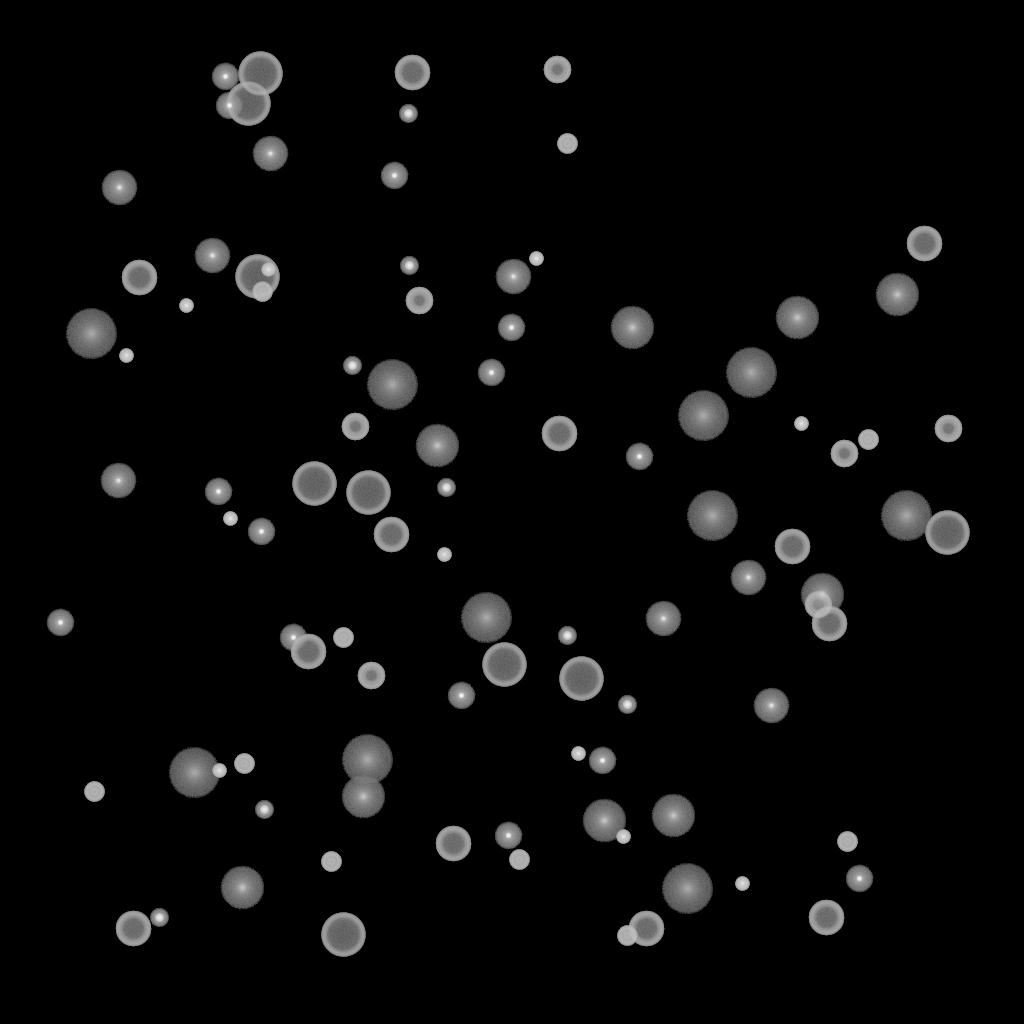depth:-10: (204, 478, 232, 506), (494, 822, 522, 850), (279, 624, 307, 652), (477, 359, 505, 387), (247, 518, 275, 546), (380, 162, 408, 190), (46, 609, 74, 637), (497, 314, 525, 342), (215, 92, 243, 120), (211, 63, 239, 91), (845, 865, 873, 893), (588, 747, 616, 775), (447, 682, 475, 710), (625, 443, 653, 471)
depth:-20: (343, 357, 361, 375), (618, 696, 636, 714), (399, 105, 417, 123), (558, 627, 576, 645), (400, 257, 418, 275), (255, 801, 273, 819), (437, 479, 455, 497), (150, 909, 168, 927)
depth:-30: (119, 349, 133, 363), (571, 747, 585, 761), (223, 512, 237, 526), (794, 417, 808, 431), (735, 877, 749, 891), (212, 764, 226, 778), (179, 299, 193, 313), (437, 548, 451, 562), (529, 252, 543, 266), (261, 263, 275, 277), (616, 830, 630, 844)
depth:-40: (617, 926, 637, 946), (557, 134, 577, 154), (321, 852, 341, 872), (509, 850, 529, 870), (84, 782, 104, 802), (234, 754, 254, 774), (252, 282, 272, 302), (858, 430, 878, 450), (837, 832, 857, 852), (333, 628, 353, 648)
depth:-50: (357, 662, 385, 690), (543, 56, 571, 84), (934, 415, 962, 443), (341, 413, 369, 441), (405, 287, 433, 315), (804, 591, 832, 619), (830, 440, 858, 468)
depth:-60: (774, 529, 810, 565), (808, 900, 844, 936), (906, 226, 942, 262), (121, 260, 157, 296), (373, 517, 409, 553), (541, 416, 577, 452), (290, 634, 326, 670), (811, 606, 847, 642), (628, 911, 664, 947), (435, 826, 471, 862), (115, 911, 151, 947), (394, 55, 430, 91)
depth:-70: (235, 255, 279, 299), (292, 462, 336, 506), (346, 471, 390, 515), (226, 82, 270, 126), (321, 913, 365, 957), (925, 511, 969, 555), (238, 52, 282, 96), (482, 643, 526, 687), (559, 657, 603, 701)
depth:0: (495, 259, 531, 295), (100, 463, 136, 499), (194, 238, 230, 274), (753, 688, 789, 724), (252, 136, 288, 172), (645, 601, 681, 637), (101, 170, 137, 206), (730, 560, 766, 596)
depth:10: (651, 794, 695, 838), (775, 296, 819, 340), (415, 424, 459, 468), (610, 306, 654, 350), (875, 273, 919, 317), (800, 573, 844, 617), (341, 775, 385, 819), (220, 866, 264, 910), (582, 799, 626, 843)
depth:20: (168, 748, 220, 798), (880, 491, 932, 541), (341, 735, 393, 785), (366, 360, 418, 410), (725, 348, 777, 398), (661, 864, 713, 914), (65, 309, 117, 359), (686, 491, 738, 541), (460, 593, 512, 643), (677, 391, 729, 441)
